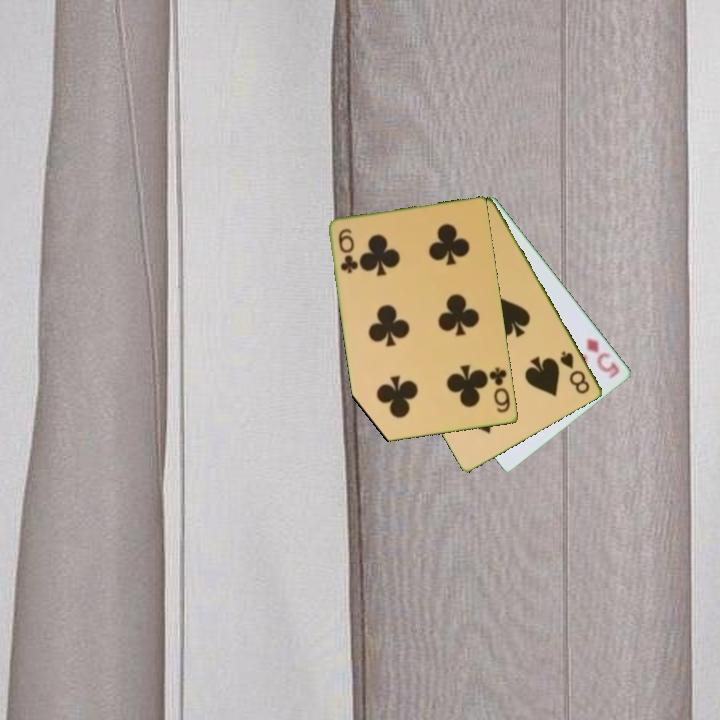5d: (583, 334, 623, 382)
6c: (486, 364, 514, 416), (335, 225, 360, 276)
8s: (557, 347, 593, 397)
